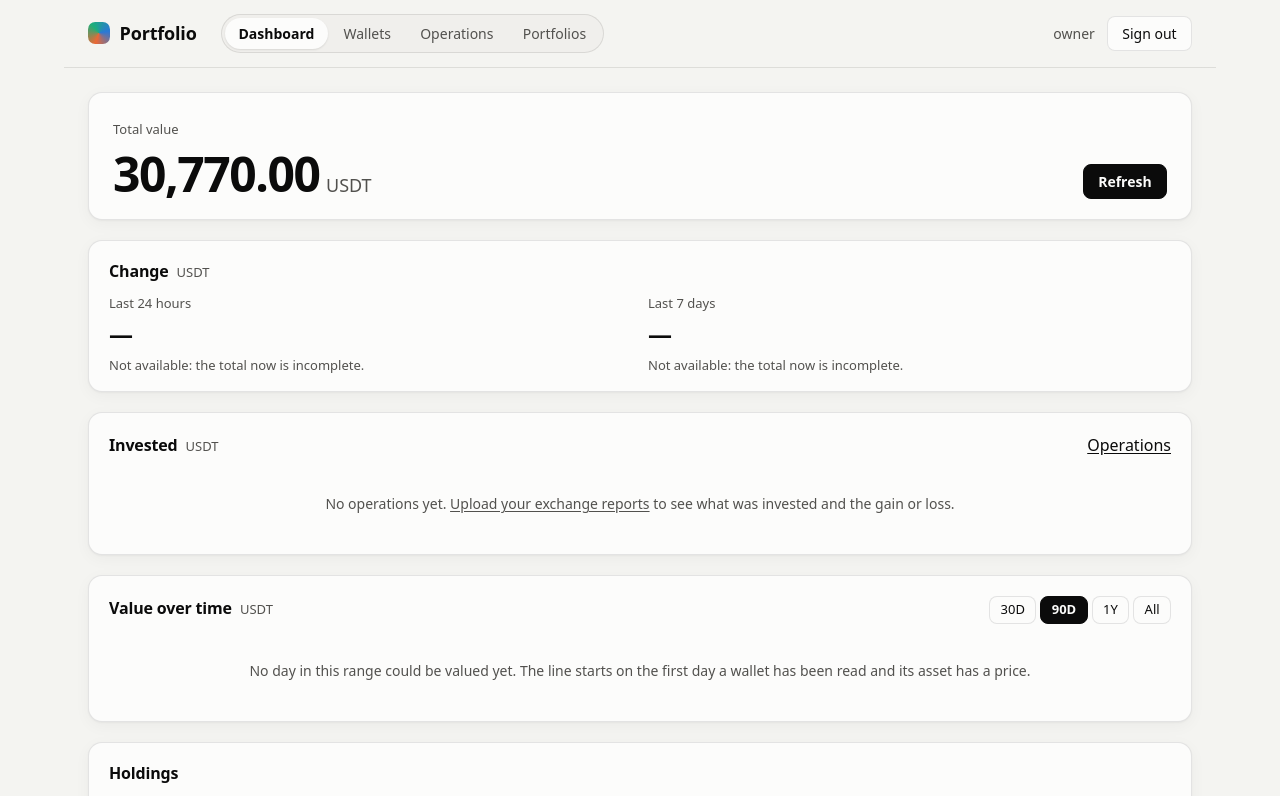
Scenario: DashboardPage: refresh › says a refresh did not complete, without claiming the sync stopped
Expected: the element "Total value" is shown, [88, 92, 1192, 220]
What coordinates should you click on to do the following:
click the button "Refresh"
I would click on:
 (1125, 182)
Its box is [1083, 164, 1167, 199].
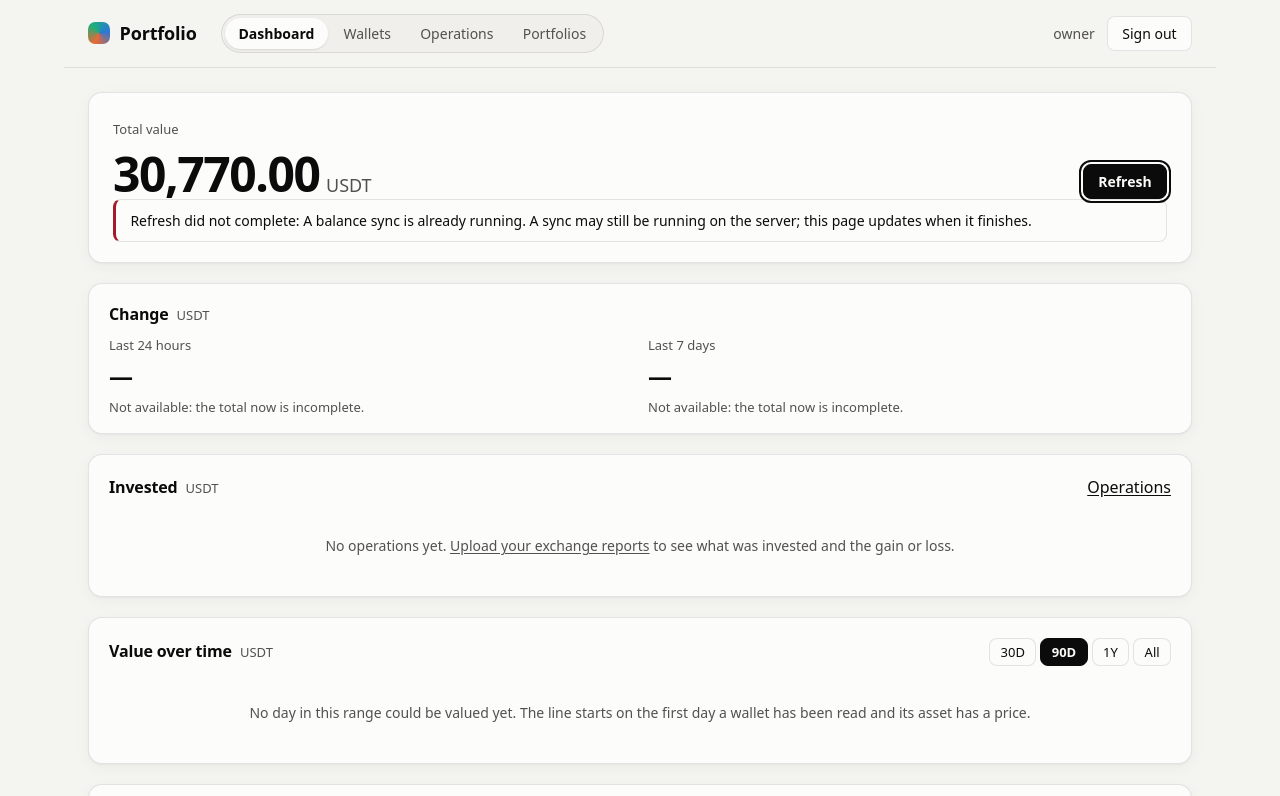
Result: the message shows "Refresh did not complete: A balance sync is already running. A sync may still be running on the server; this page updates when it finishes." at [113, 199, 1167, 242]
